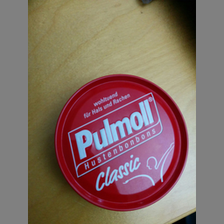candy: (55, 73, 190, 211)
